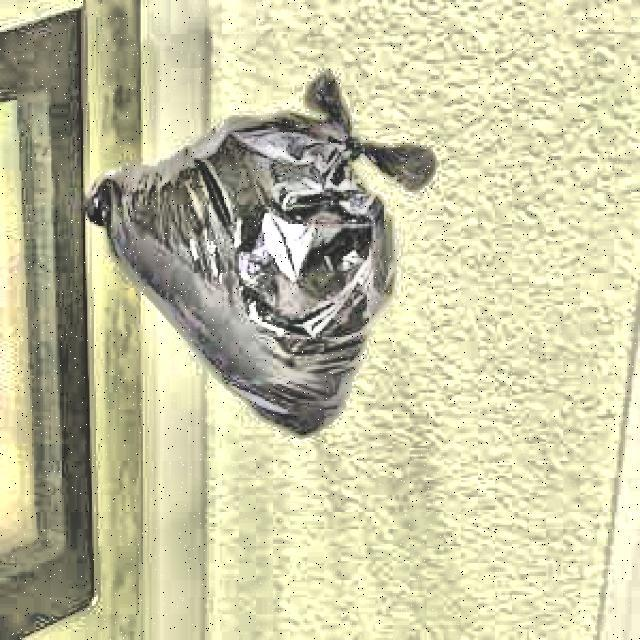Trashbag: (62, 66, 418, 436)
